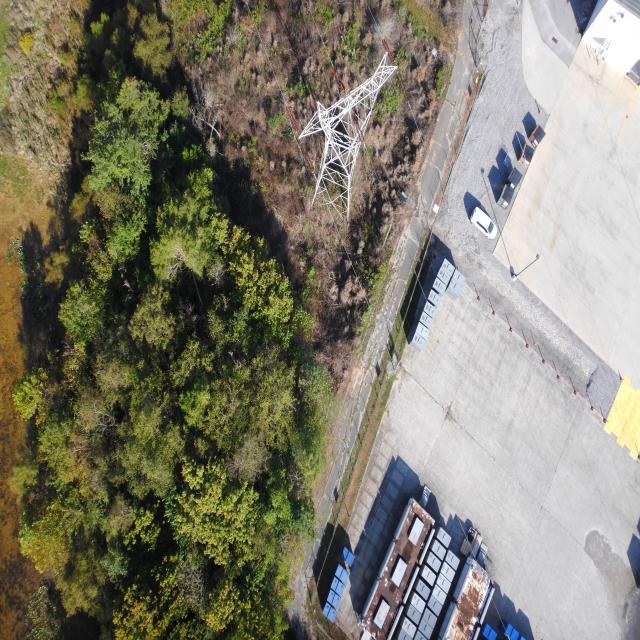Area of Interest: (57, 102, 321, 627)
